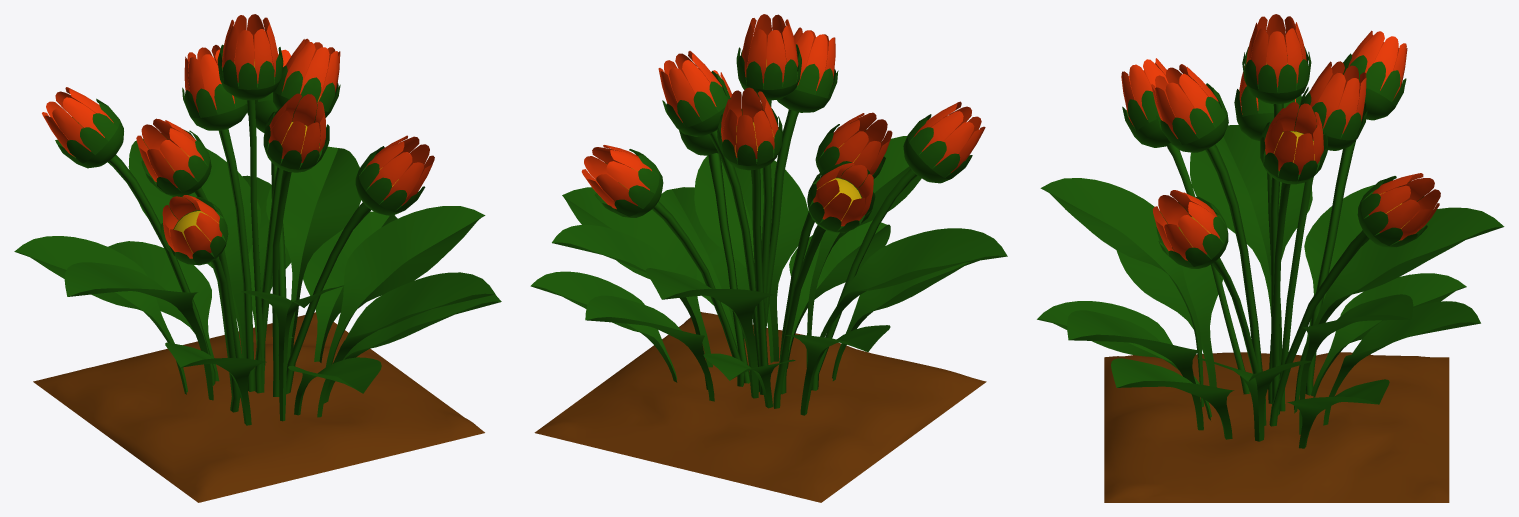
The model's file is orange-daisy-p4-leaf.glb.
3 renders of one model, left to right at view 1: azimuth 30°, elevation 25°; view 2: azimuth 150°, elevation 25°; view 3: azimuth 270°, elevation 25°, orthographic. The views are drawn at different scales.
Parts seen in each view (by area): view 1: 4_nft_out_of_bloom; view 2: 4_nft_out_of_bloom; view 3: 4_nft_out_of_bloom.
Boxes of the visible parts, x1,y1,x2,y2 form: 4_nft_out_of_bloom: (14,14,501,502); 4_nft_out_of_bloom: (530,14,1007,502); 4_nft_out_of_bloom: (1037,14,1504,502).
Size of the model in its own units: 1.05 by 0.9028 by 0.9501.
